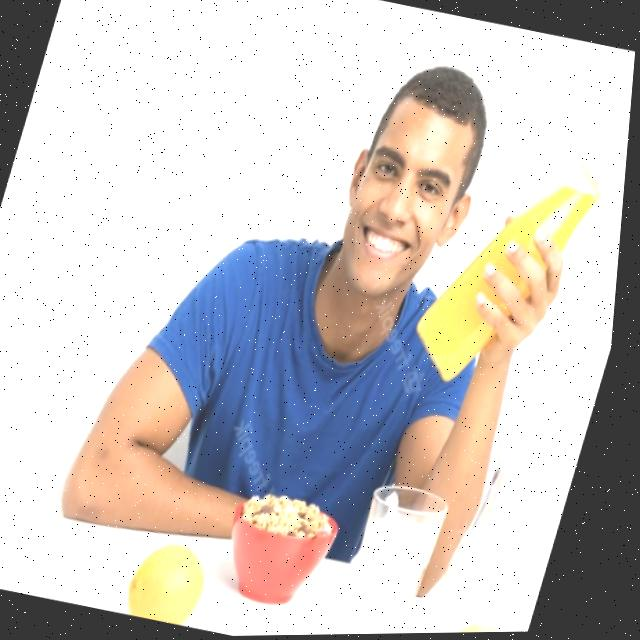eating-person: (29, 0, 640, 639)
